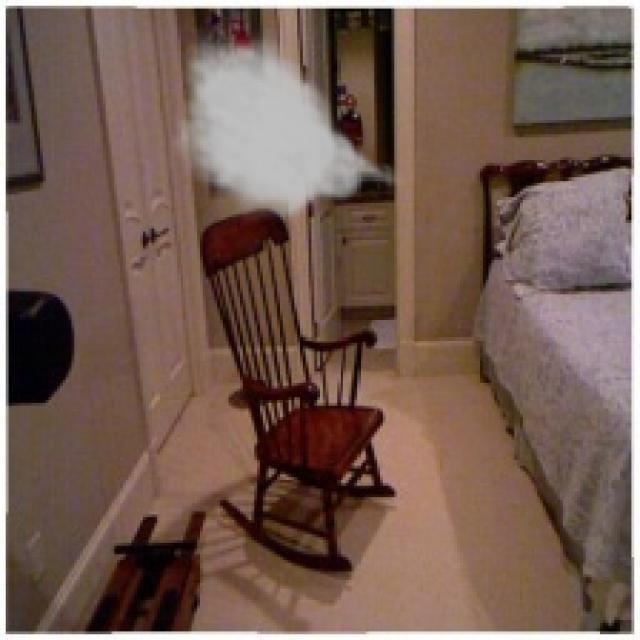Smoke: (172, 26, 408, 226)
